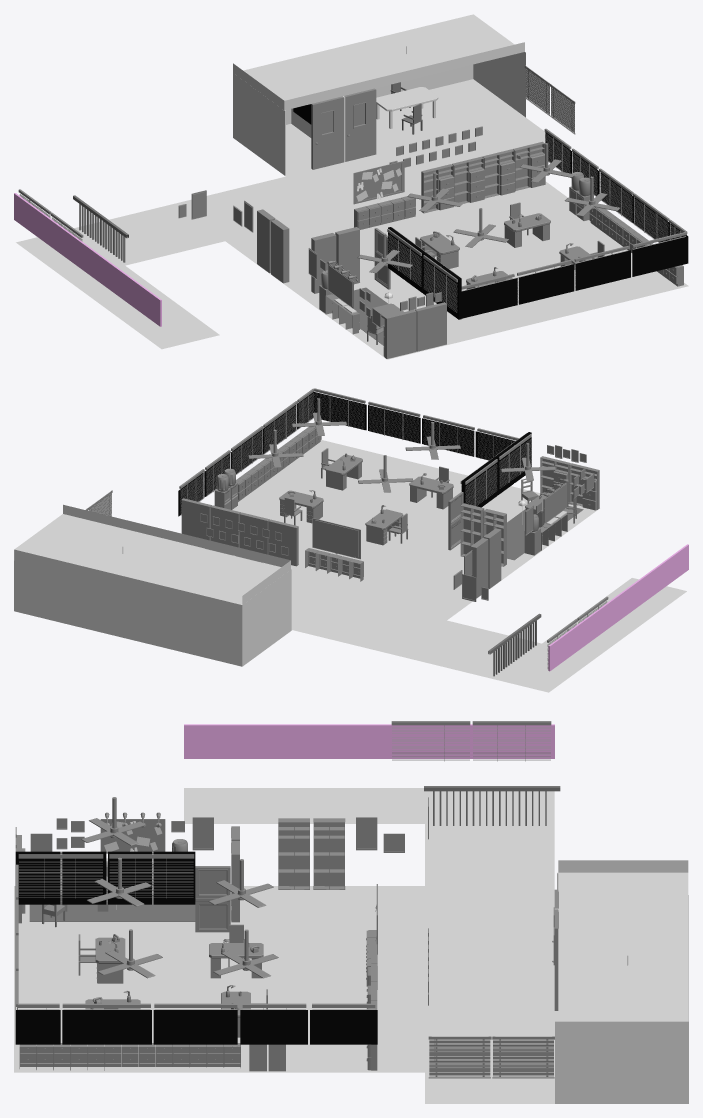
The model's file is Office (Recentered).FBX.
3 views of the same model, one above another, from view 1: azimuth 30°, elevation 25°; view 2: azimuth 150°, elevation 25°; view 3: azimuth 270°, elevation 25° (orthographic). The views are drawn at different scales.
Parts seen in each view (by area): view 1: Floor001, GLASS003, GlassOffice_003, WallforInterogationRoom001, Glass_Office_002, Box6674, Box6675, AlleywayRailingforStairs002, Utility shelf001, Utility shelf003, Utility shelf002, Utility shelf004 (+19 smaller); view 2: Floor001, GLASS003, GlassOffice_003, WallforInterogationRoom001, Glass_Office_002, Bulletin board, AlleywayRailingforStairs002, Shelf003, Utility shelf001, Utility shelf, Utility shelf005, Desk001 (+19 smaller); view 3: Floor001, GlassOffice_003, GLASS003, Glass_Office_002, Carpet_002, Shelf, Shelf001, BLINDS_FOLDS199, BLINDS_FOLDS200, AlleywayRailingforStairs002, Box6628, Box6625 (+10 smaller).
Boxes of the visible parts, x1=… form: Floor001: x1=16, y1=14, x2=688, y2=359; GLASS003: x1=461, y1=132, x2=688, y2=318; GlassOffice_003: x1=14, y1=193, x2=161, y2=326; WallforInterogationRoom001: x1=233, y1=73, x2=285, y2=175; Glass_Office_002: x1=388, y1=227, x2=461, y2=319; Box6674: x1=311, y1=96, x2=343, y2=169; Box6675: x1=344, y1=88, x2=376, y2=161; AlleywayRailingforStairs002: x1=73, y1=195, x2=128, y2=262; Utility shelf001: x1=383, y1=310, x2=416, y2=358; Utility shelf003: x1=482, y1=149, x2=515, y2=198; Utility shelf002: x1=415, y1=302, x2=446, y2=351; Utility shelf004: x1=452, y1=156, x2=484, y2=203; Floor001: x1=14, y1=440, x2=686, y2=692; GLASS003: x1=178, y1=392, x2=515, y2=516; GlassOffice_003: x1=548, y1=544, x2=688, y2=671; WallforInterogationRoom001: x1=241, y1=569, x2=291, y2=666; Glass_Office_002: x1=461, y1=432, x2=531, y2=507; Bulletin board: x1=312, y1=518, x2=360, y2=559; AlleywayRailingforStairs002: x1=488, y1=613, x2=541, y2=676; Shelf003: x1=460, y1=503, x2=484, y2=556; Utility shelf001: x1=569, y1=463, x2=599, y2=510; Utility shelf: x1=181, y1=498, x2=211, y2=540; Utility shelf005: x1=268, y1=519, x2=298, y2=566; Desk001: x1=325, y1=455, x2=362, y2=490; Floor001: x1=14, y1=788, x2=688, y2=1103; GlassOffice_003: x1=184, y1=724, x2=554, y2=758; GLASS003: x1=15, y1=870, x2=377, y2=1044; Glass_Office_002: x1=15, y1=851, x2=195, y2=904; Carpet_002: x1=29, y1=893, x2=195, y2=921; Shelf: x1=313, y1=818, x2=345, y2=889; Shelf001: x1=278, y1=818, x2=309, y2=889; BLINDS_FOLDS199: x1=429, y1=1040, x2=490, y2=1076; BLINDS_FOLDS200: x1=493, y1=1040, x2=553, y2=1076; AlleywayRailingforStairs002: x1=424, y1=786, x2=560, y2=825; Box6628: x1=19, y1=861, x2=102, y2=897; Box6625: x1=109, y1=861, x2=193, y2=897.
Size of the model in its own units: 2048 by 340 by 1843.
